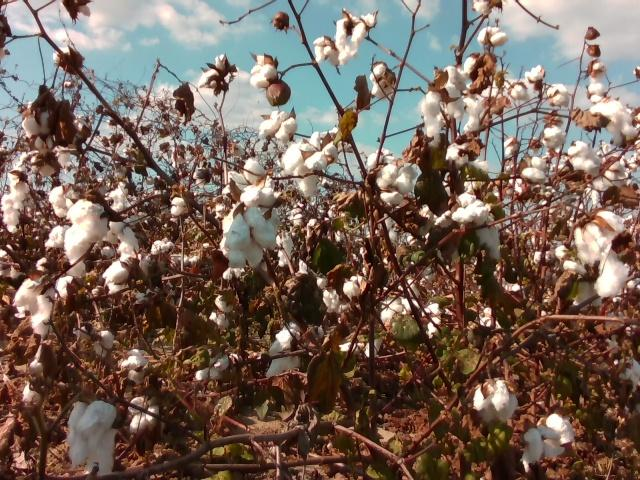cotton_ready: (434, 192, 502, 264), (419, 64, 469, 151), (66, 400, 119, 477), (220, 203, 279, 269), (13, 275, 74, 338), (102, 228, 152, 294), (65, 198, 111, 264), (593, 237, 640, 298), (522, 413, 575, 466), (575, 210, 627, 262), (589, 100, 640, 146), (282, 144, 324, 199), (45, 224, 86, 280), (230, 157, 275, 207), (267, 320, 305, 379), (472, 379, 519, 425), (1, 165, 30, 235), (376, 164, 419, 205), (23, 101, 68, 138), (336, 14, 368, 66), (587, 156, 629, 192), (299, 131, 338, 169), (127, 395, 161, 434), (322, 281, 361, 314), (260, 109, 298, 142), (381, 295, 420, 327), (195, 348, 231, 382), (421, 302, 454, 339), (118, 346, 150, 384), (49, 184, 82, 218), (18, 150, 61, 176), (569, 141, 602, 174), (198, 53, 227, 90), (250, 53, 279, 89), (61, 115, 92, 148), (52, 45, 83, 74), (370, 64, 395, 98), (446, 141, 475, 169), (314, 36, 340, 66), (521, 156, 549, 183), (541, 126, 567, 150), (477, 27, 507, 46), (65, 0, 92, 18), (472, 0, 494, 15)
